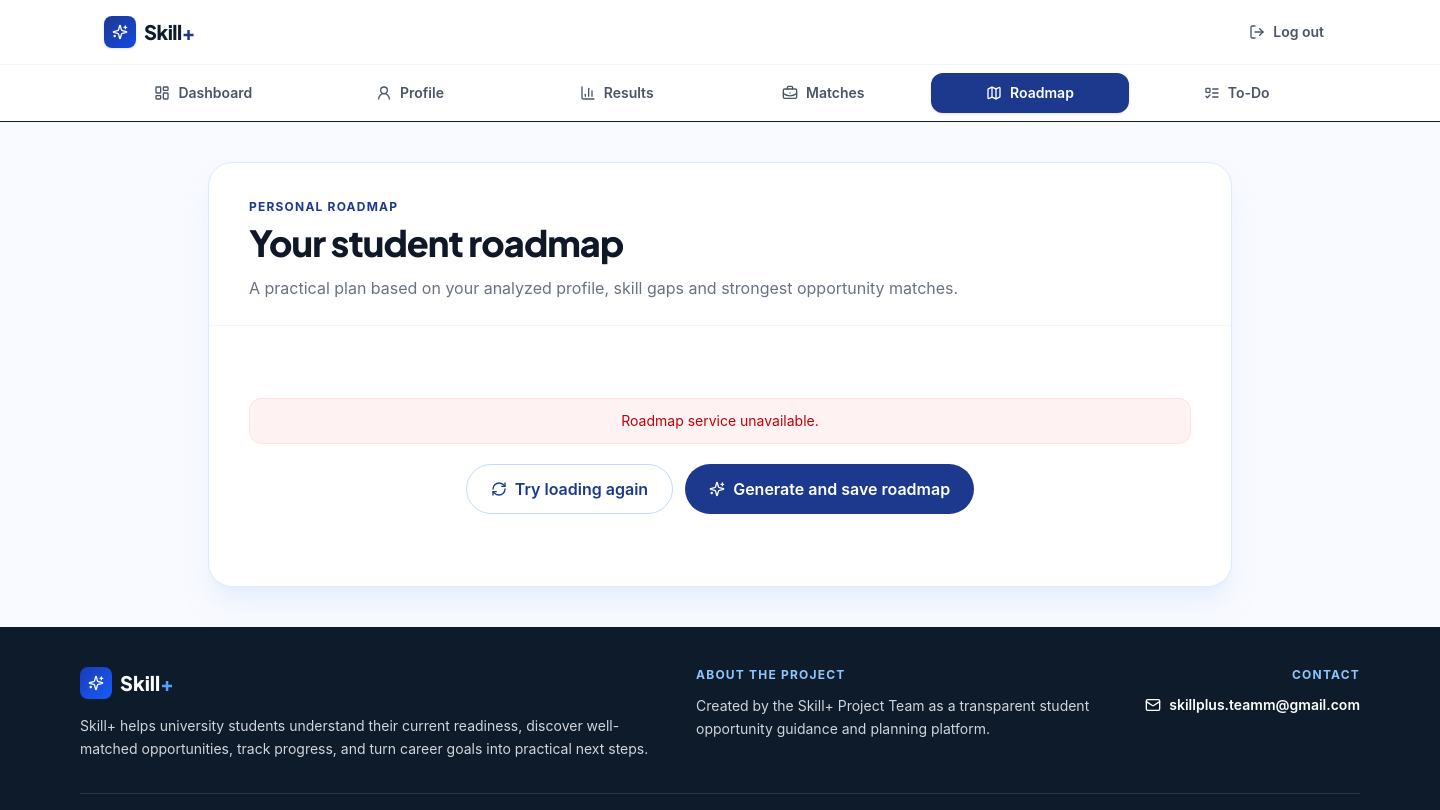
Member 5 Issue #40 role-aware frontend › shows a roadmap loading error and retries the cached request
Check: the message reads "Roadmap service unavailable.", box [621,412,819,429]
Click the button "Try loading again".
click(569, 489)  # box [466,464,673,514]
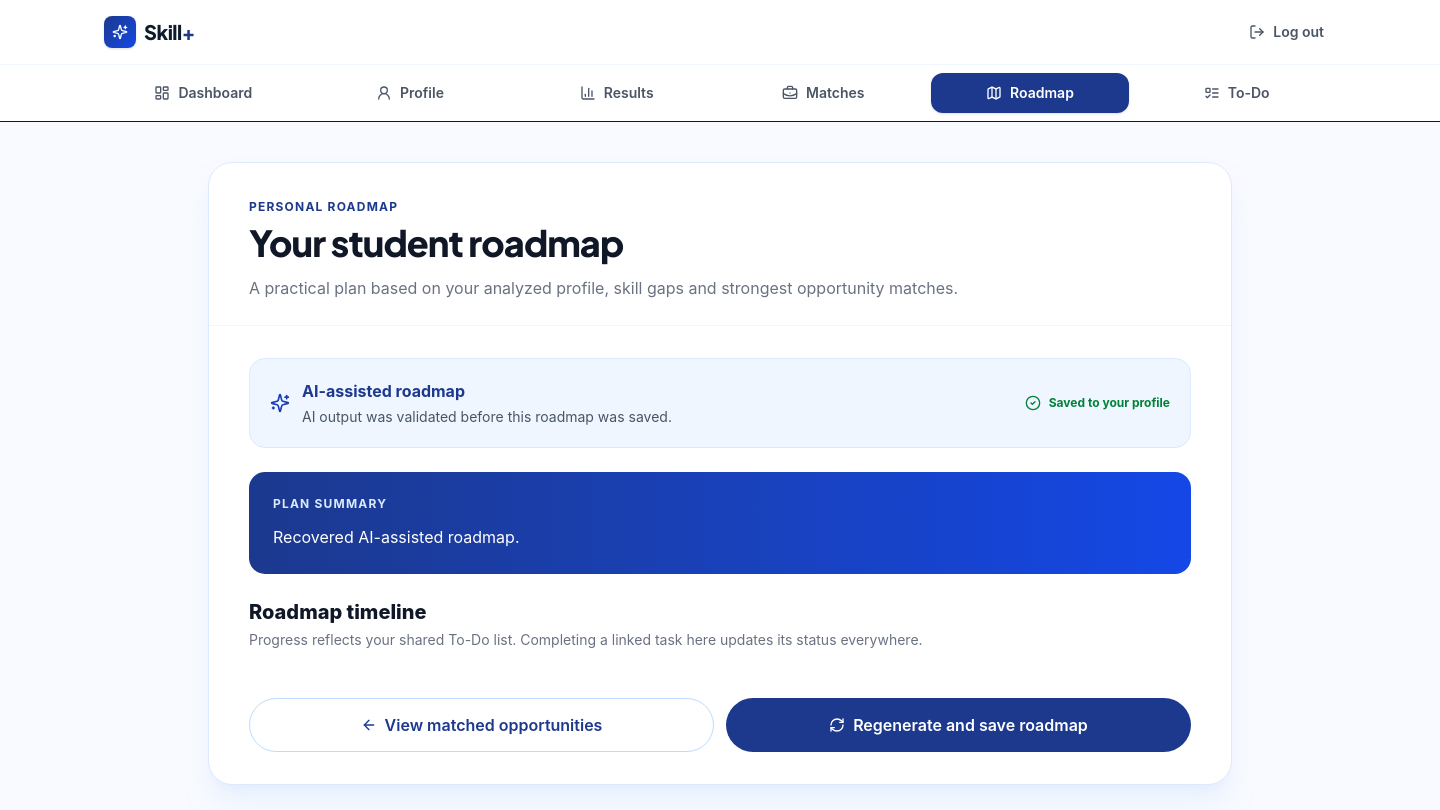
Check: the text "AI-assisted roadmap" is shown, box [302,381,465,401]
Check: the text "Recovered AI-assisted roadmap." is shown, box [273,527,520,547]
